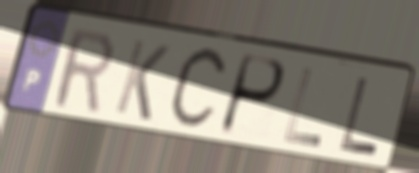C: (164, 43, 232, 135)
K: (111, 35, 173, 125)
L: (337, 74, 382, 159), (280, 64, 324, 150)
P: (215, 51, 289, 140)
R: (50, 25, 116, 118)
